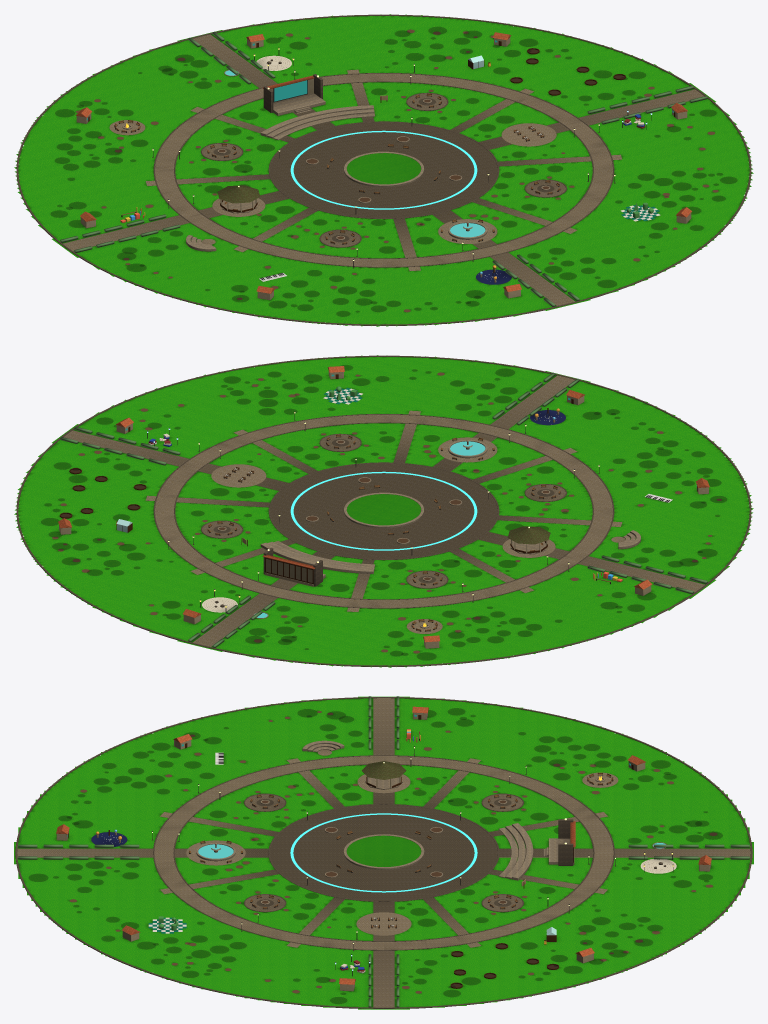
File: praca.glb
3 views of the same model, one above another, from view 1: azimuth 30°, elevation 25°; view 2: azimuth 150°, elevation 25°; view 3: azimuth 270°, elevation 25° (orthographic).
Visible parts, largest first — view 1: praca_grama, praca_pedra, praca_sombra, praca_pedraEsc, praca_pedraLisa, praca_arbusto, praca_terra, praca_reboco, praca_telhado, praca_teal, praca_madeira, praca_telhadoTeal (+2 smaller); view 2: praca_grama, praca_pedra, praca_sombra, praca_pedraEsc, praca_pedraLisa, praca_arbusto, praca_terra, praca_reboco, praca_telhado, praca_teal, praca_madeiraEsc, praca_madeira (+2 smaller); view 3: praca_grama, praca_pedra, praca_sombra, praca_pedraEsc, praca_pedraLisa, praca_arbusto, praca_terra, praca_teal, praca_telhado, praca_reboco, praca_telhadoTeal, praca_madeira (+2 smaller).
Boxes of the visible parts, left/top/right/bottom form: praca_grama: left=14, top=14, right=753, bottom=326; praca_pedra: left=60, top=34, right=704, bottom=306; praca_sombra: left=50, top=27, right=737, bottom=316; praca_pedraEsc: left=16, top=14, right=751, bottom=325; praca_pedraLisa: left=122, top=69, right=550, bottom=282; praca_arbusto: left=60, top=31, right=707, bottom=306; praca_terra: left=76, top=29, right=718, bottom=312; praca_reboco: left=76, top=37, right=691, bottom=300; praca_telhado: left=76, top=32, right=691, bottom=293; praca_teal: left=290, top=130, right=477, bottom=209; praca_madeira: left=114, top=93, right=560, bottom=243; praca_telhadoTeal: left=217, top=185, right=260, bottom=203; praca_grama: left=14, top=355, right=753, bottom=667; praca_pedra: left=63, top=375, right=707, bottom=647; praca_sombra: left=41, top=365, right=726, bottom=660; praca_pedraEsc: left=16, top=355, right=751, bottom=666; praca_pedraLisa: left=217, top=411, right=640, bottom=628; praca_arbusto: left=60, top=372, right=707, bottom=647; praca_terra: left=52, top=372, right=721, bottom=653; praca_reboco: left=59, top=371, right=708, bottom=648; praca_telhado: left=58, top=366, right=709, bottom=642; praca_teal: left=290, top=471, right=477, bottom=550; praca_madeiraEsc: left=59, top=374, right=697, bottom=584; praca_madeira: left=207, top=434, right=610, bottom=630; praca_grama: left=14, top=696, right=753, bottom=1009; praca_pedra: left=15, top=698, right=752, bottom=1008; praca_sombra: left=29, top=708, right=722, bottom=1003; praca_pedraEsc: left=15, top=697, right=752, bottom=1008; praca_pedraLisa: left=96, top=740, right=666, bottom=927; praca_arbusto: left=18, top=696, right=749, bottom=1007; praca_terra: left=69, top=711, right=717, bottom=993; praca_teal: left=290, top=813, right=477, bottom=892; praca_telhado: left=56, top=706, right=711, bottom=984; praca_reboco: left=56, top=712, right=711, bottom=991; praca_telhadoTeal: left=361, top=761, right=406, bottom=779; praca_madeira: left=189, top=731, right=613, bottom=927.
Bounding box in the file's own units: 348 × 11.97 × 348.
Materials: 42 (10 with a texture image).
